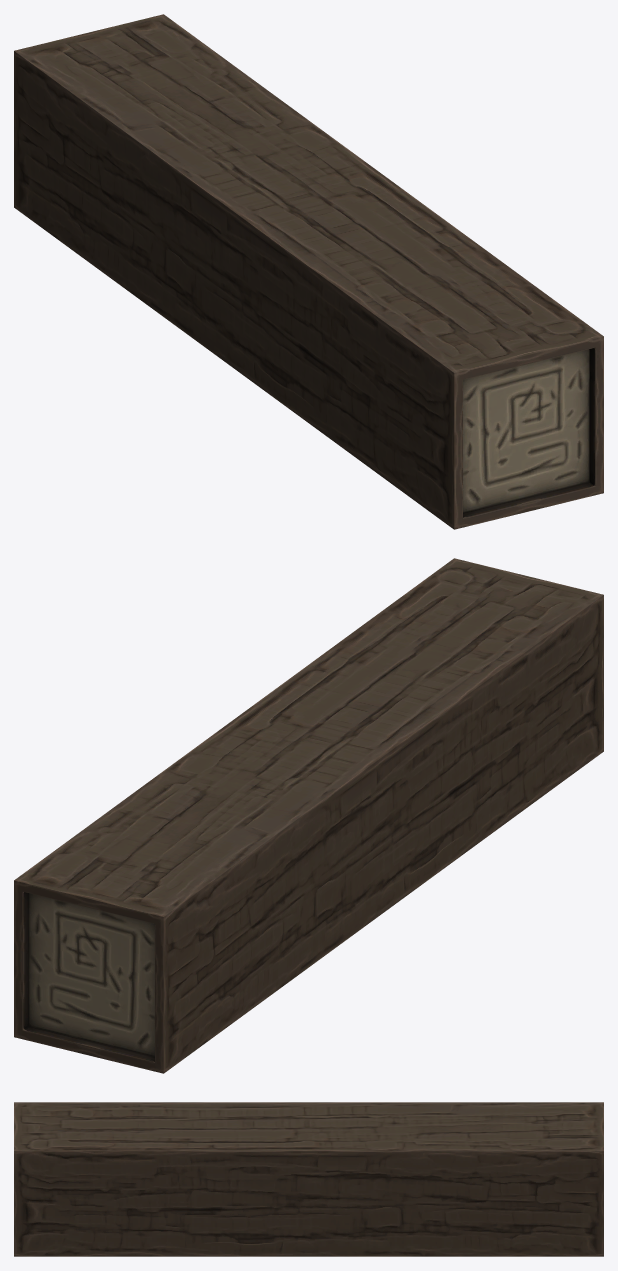
File: SM_Log_01_A.glb
3 views of the same model, one above another, from view 1: azimuth 30°, elevation 25°; view 2: azimuth 150°, elevation 25°; view 3: azimuth 270°, elevation 25° (orthographic). The views are drawn at different scales.
Parts seen in each view (by area): view 1: SM_Log_01_A; view 2: SM_Log_01_A; view 3: SM_Log_01_A.
Boxes of the visible parts, left/top/right/bottom form: SM_Log_01_A: left=14, top=14, right=603, bottom=529; SM_Log_01_A: left=14, top=558, right=603, bottom=1073; SM_Log_01_A: left=14, top=1102, right=603, bottom=1256.
Bounding box in the file's own units: 0.1374 × 0.1374 × 0.6993.
1 material, 1 textured.
